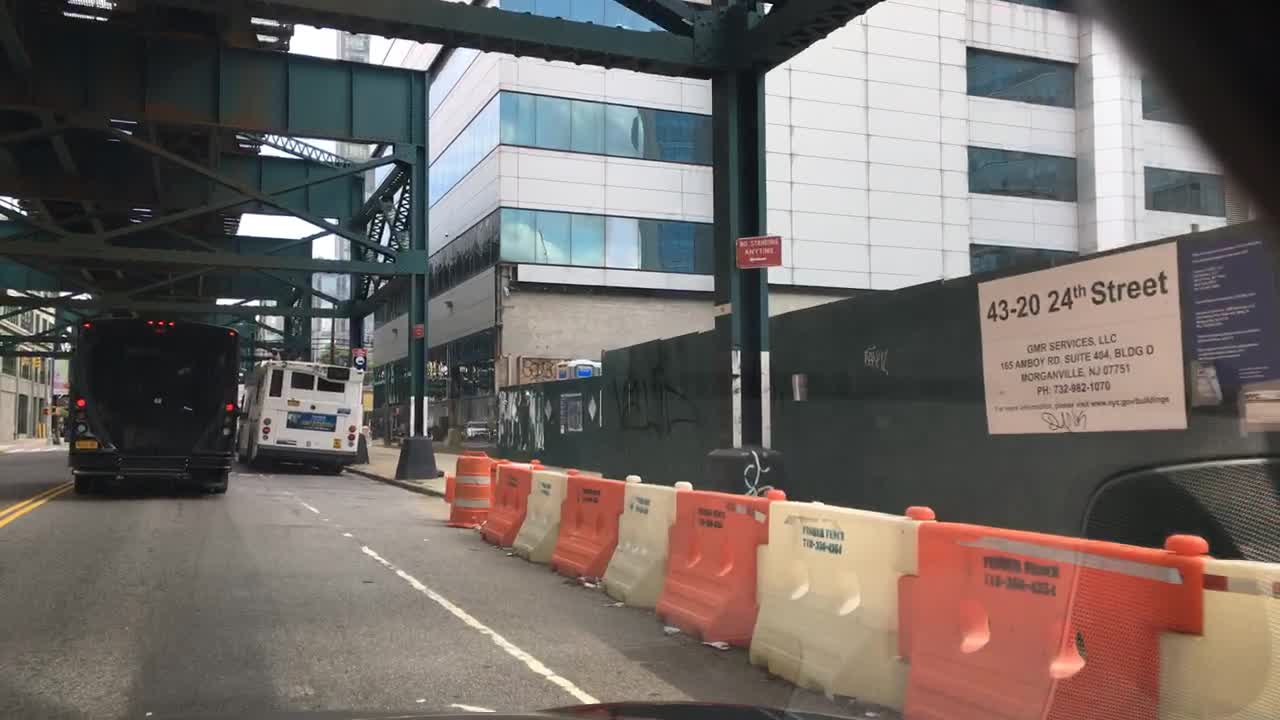bus: (55, 311, 240, 493), (236, 354, 364, 473)
traffic light: (16, 357, 32, 366), (33, 356, 42, 370)
traffic sign: (730, 235, 783, 268), (353, 353, 368, 372), (406, 322, 422, 336)
